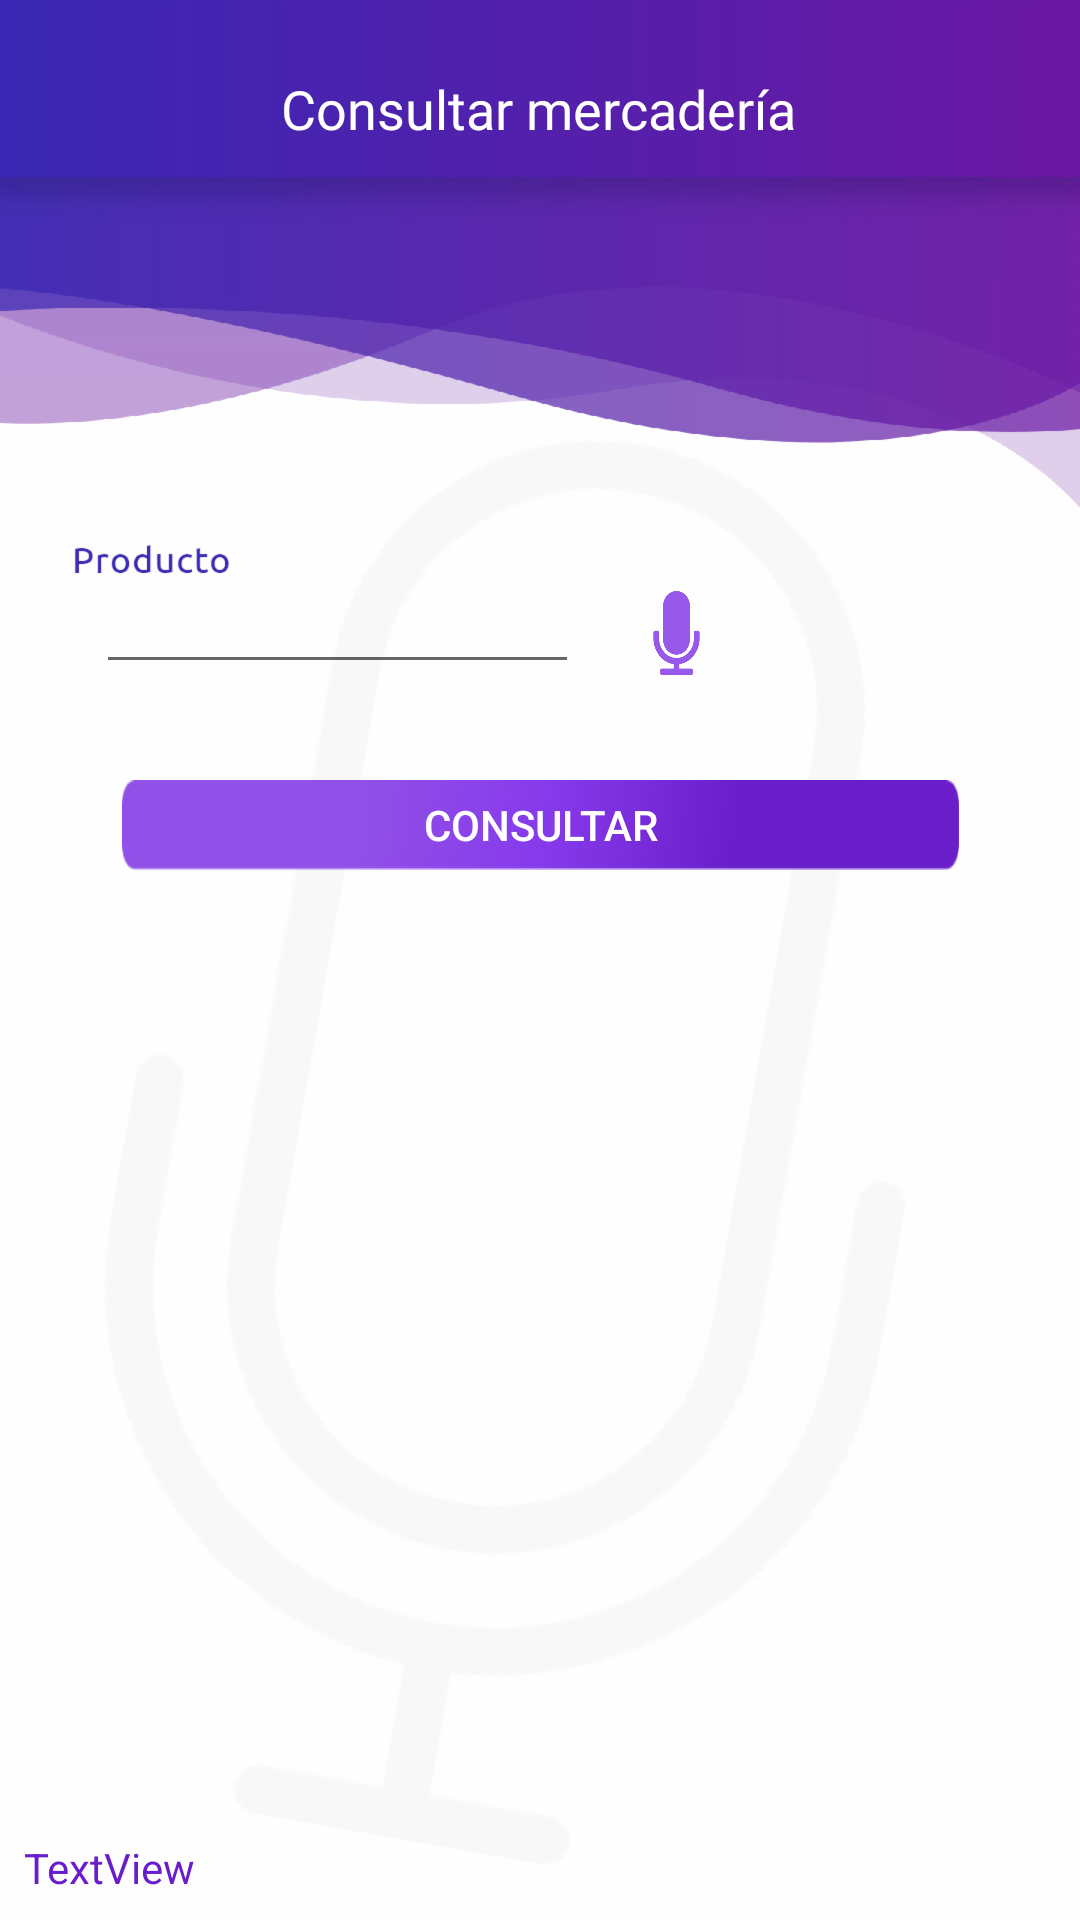

Point at icon controls on the screen. Image size 1080px x 1920px, points as point (x, y).
voz: point (676, 633)
